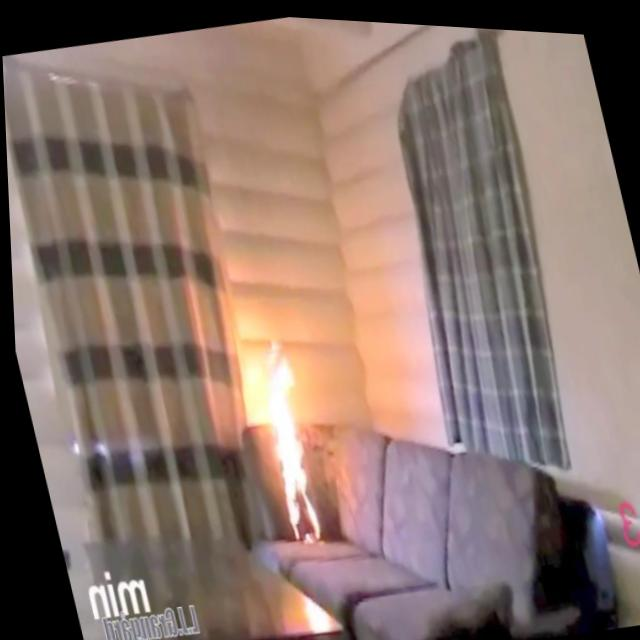fire: (240, 338, 334, 554)
